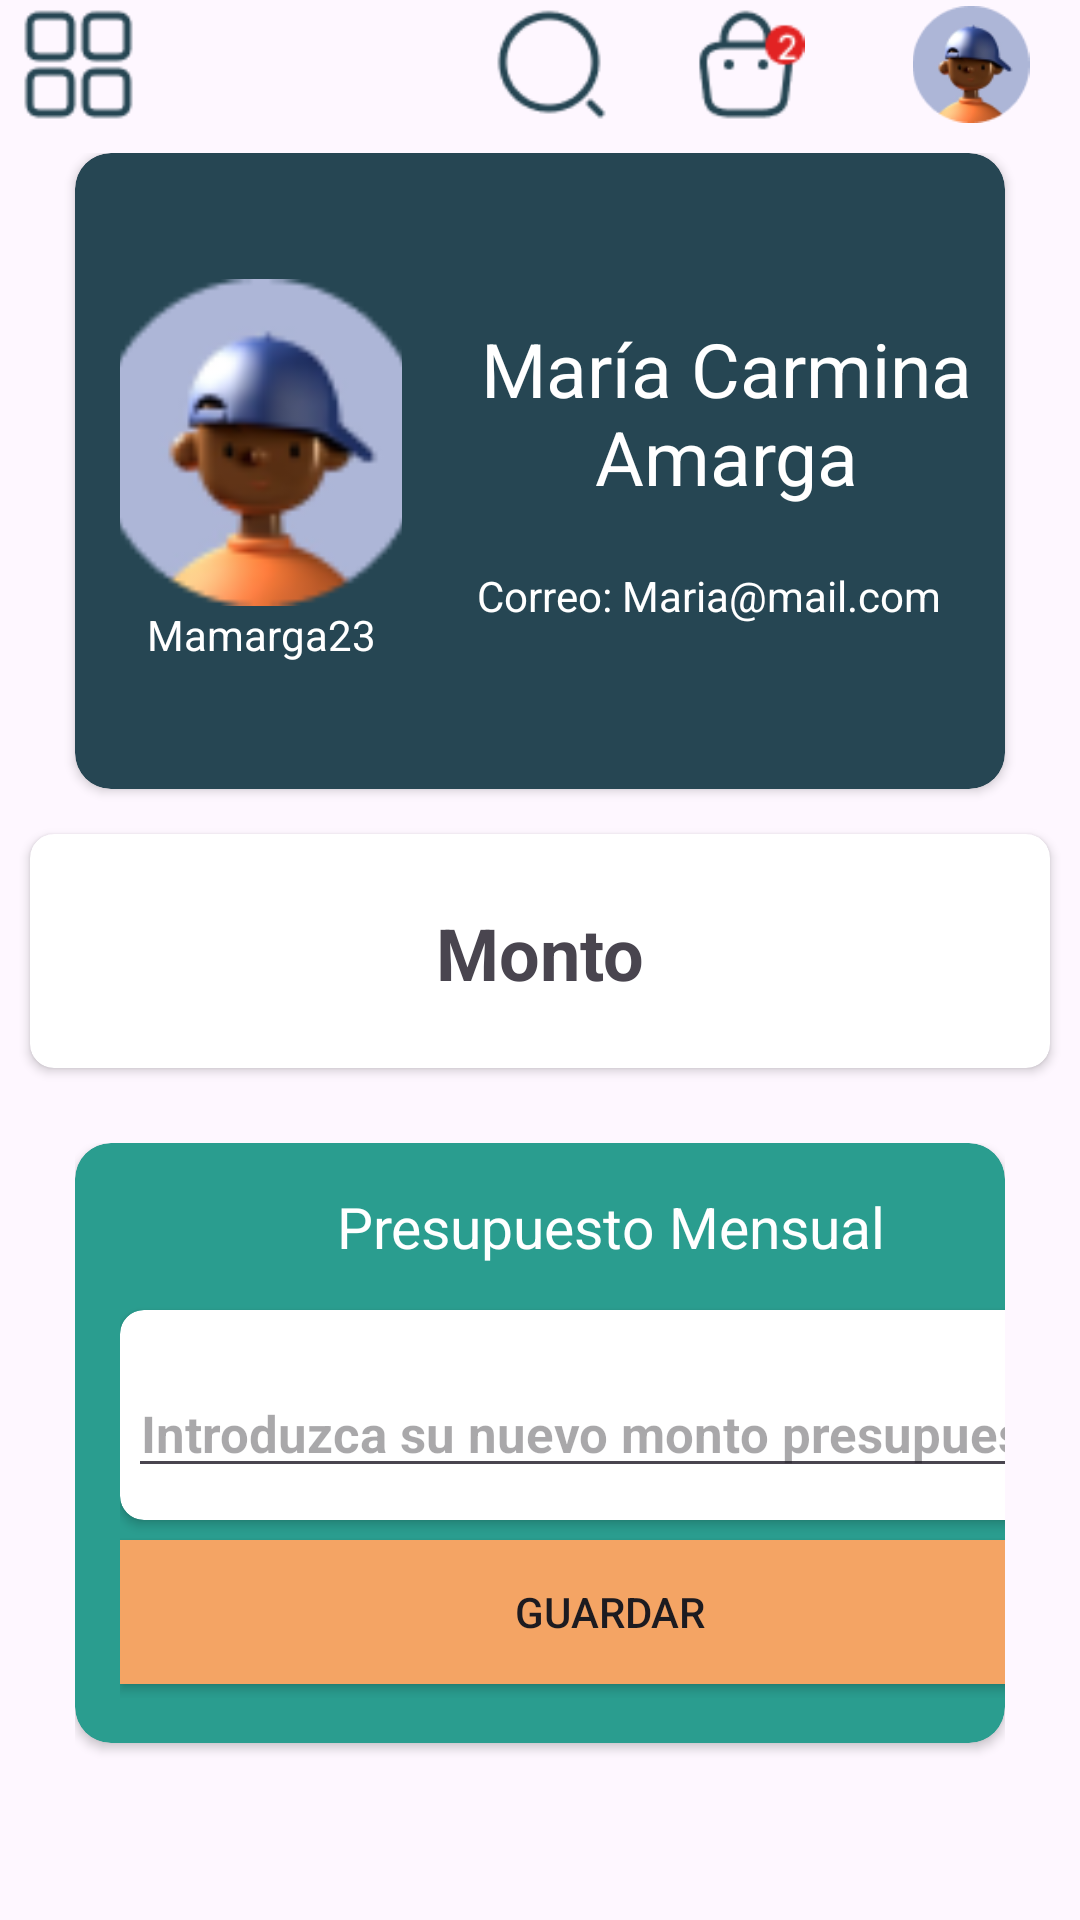

Point at icon controls on the screen. Image size 1080w x 1920h, points as (x,y).
bag: (752,64)
searchnormal: (551,64)
